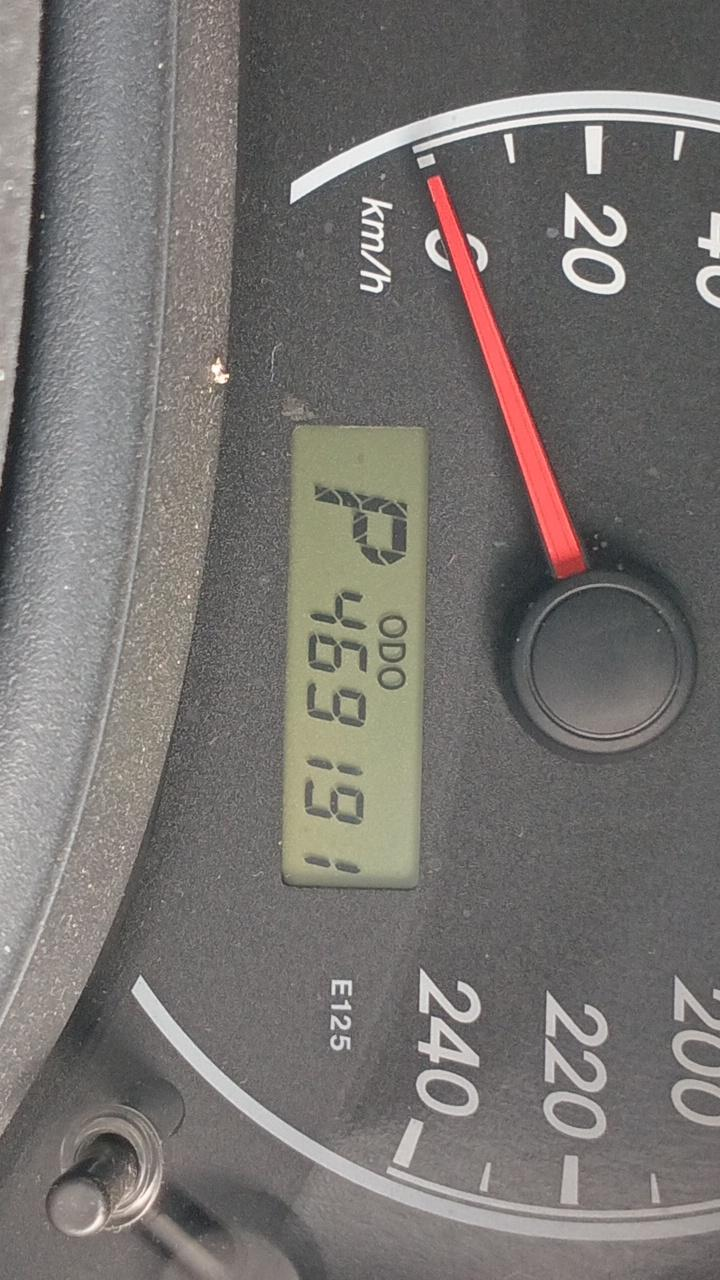1: (305, 758, 364, 777), (303, 856, 362, 875)
4: (309, 590, 368, 632)
6: (308, 634, 369, 675)
9: (303, 779, 365, 826), (306, 683, 367, 730)
X: (312, 484, 409, 569), (378, 614, 408, 639), (377, 666, 407, 691), (378, 642, 407, 663)
odometer: (281, 424, 431, 893)
